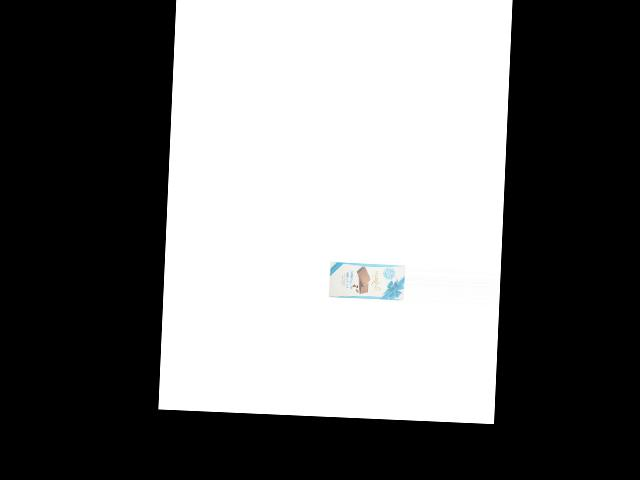chocolate: (326, 258, 406, 305)
